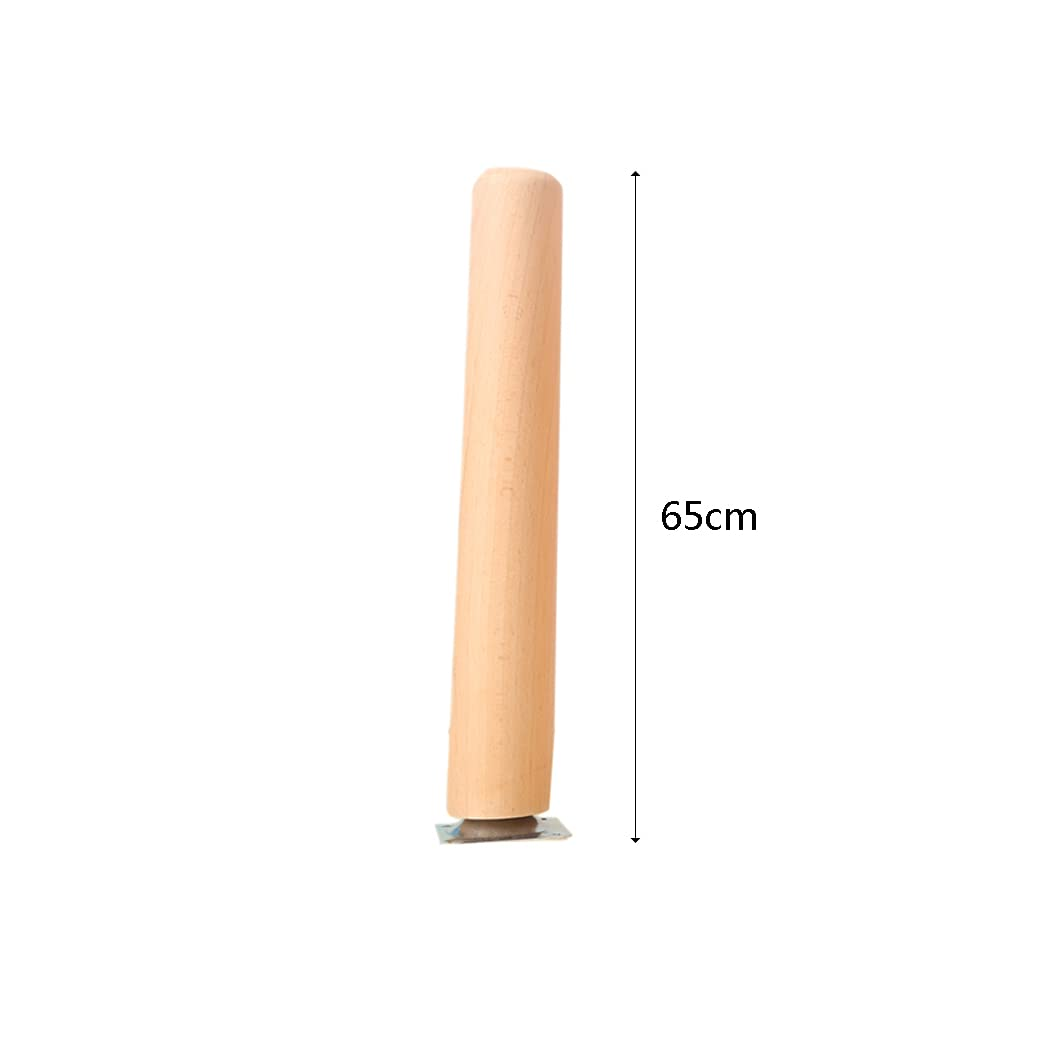65cm: (662, 501, 756, 530)
